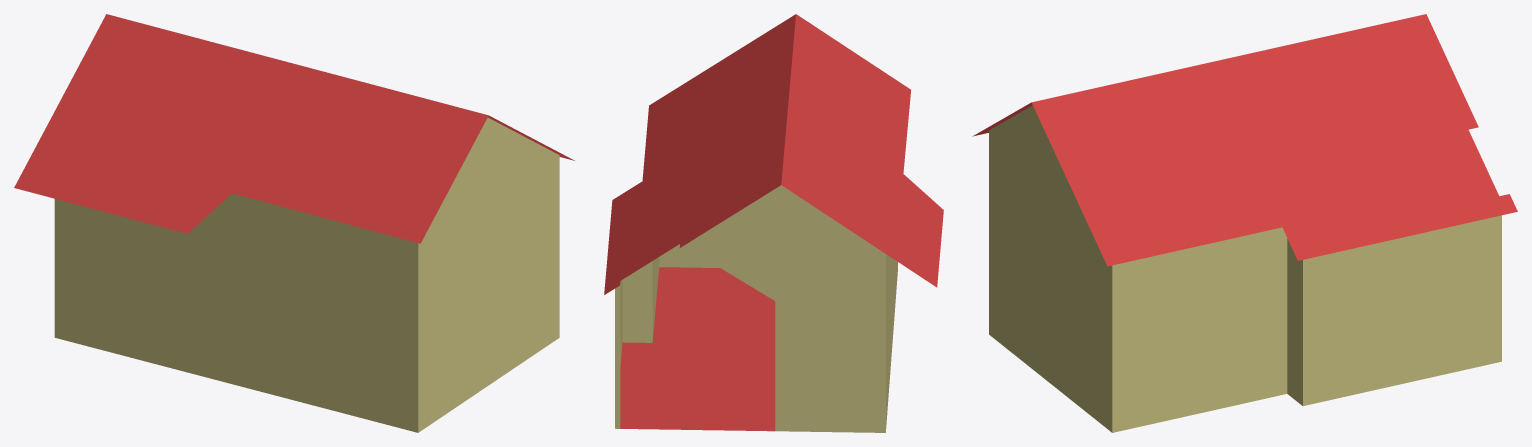
The picture shows the model from 3 angles, left to right: view 1: azimuth 30°, elevation 25°; view 2: azimuth 150°, elevation 25°; view 3: azimuth 270°, elevation 25°; orthographic projection. The views are drawn at different scales.
Bounding box in the file's own units: 21.5 × 23.26 × 13.01.
